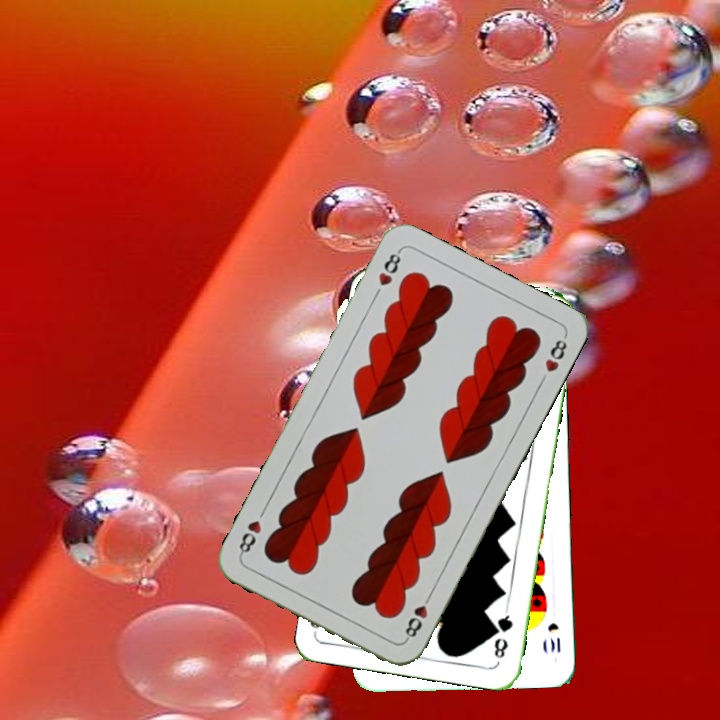G8: (490, 605, 516, 661)
H8: (401, 589, 435, 643), (374, 246, 404, 289)
S10: (544, 619, 563, 656)
